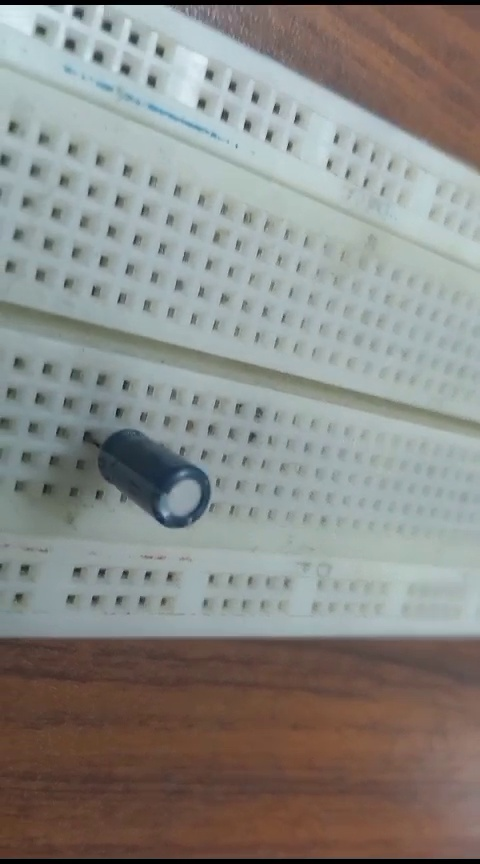capacitor: (78, 411, 218, 547)
